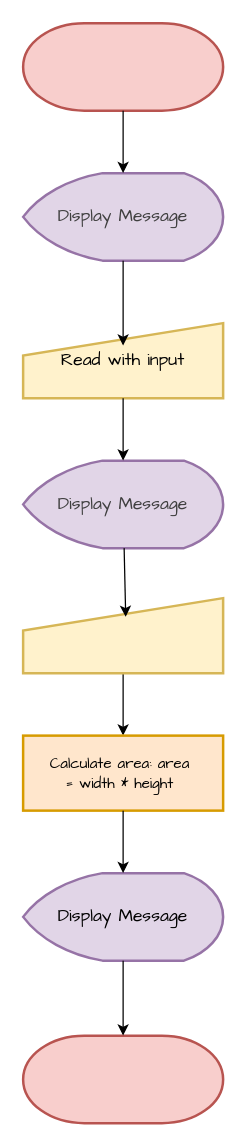
Image size: 245x1145. Some labels were removed from this diagram. The centre of each missing label's shape, as x and y in pixels:
"End" goes at (x=122, y=1079).
"Read height input" goes at (x=122, y=635).
"start" goes at (x=122, y=66).
